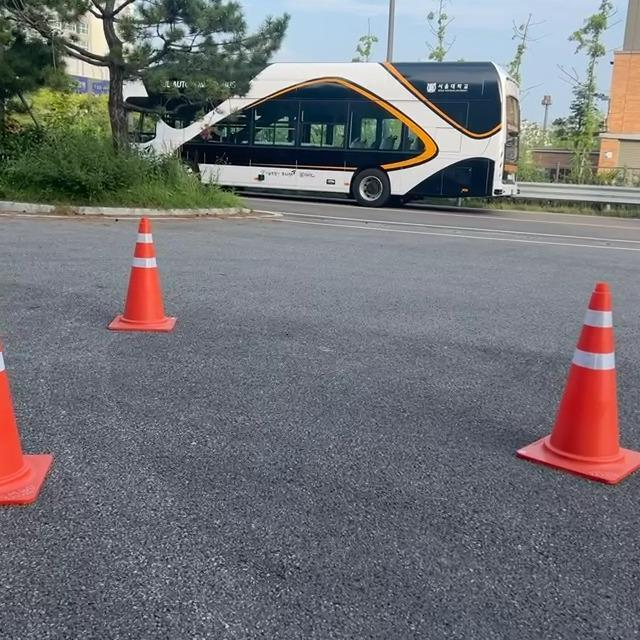fallen_object: (471, 274, 640, 590), (90, 206, 220, 399), (13, 296, 62, 572)
